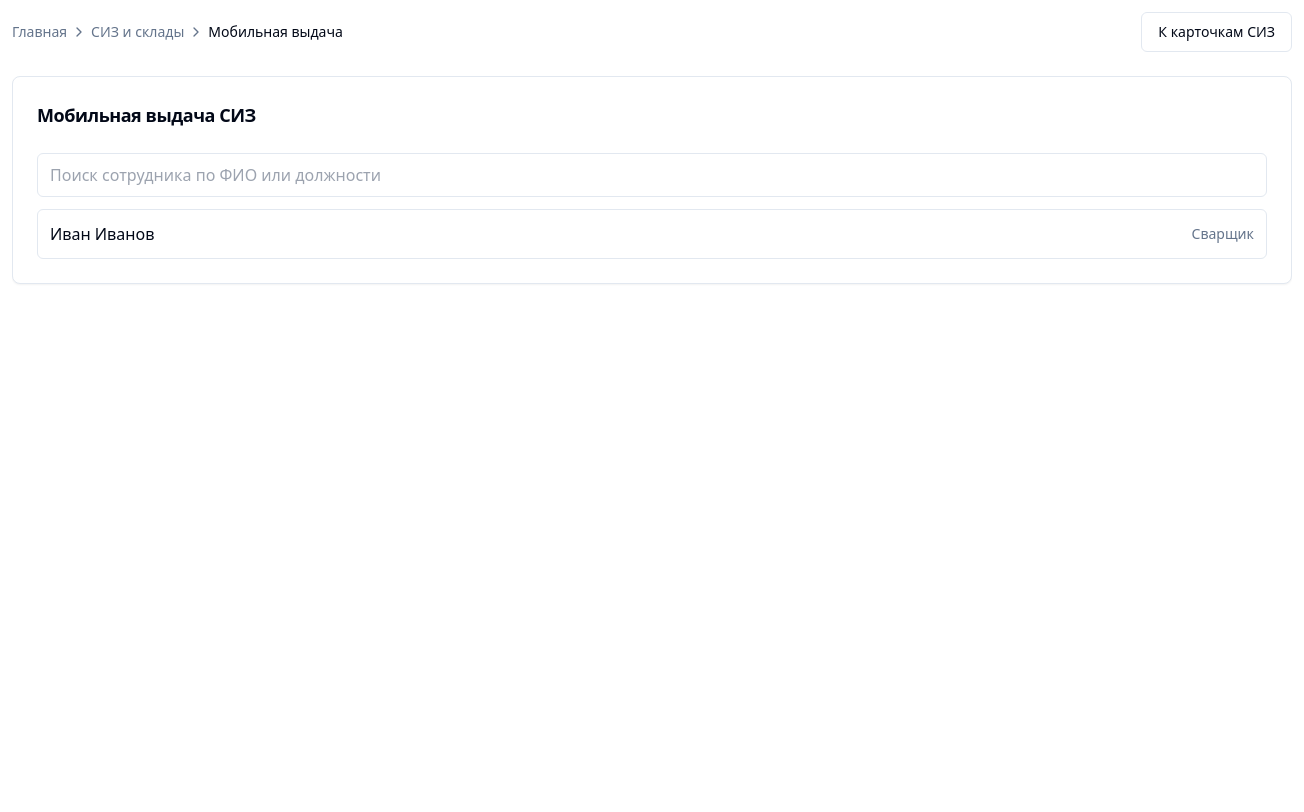
Test: MobileIssuePage — worker step › renders the page and lists only active workers, selecting one advances to items
Expected: the heading "Мобильная выдача СИЗ" is shown, [37,103,256,127]
Click the text "Иван Иванов".
click(102, 234)  # box [50,222,154,246]
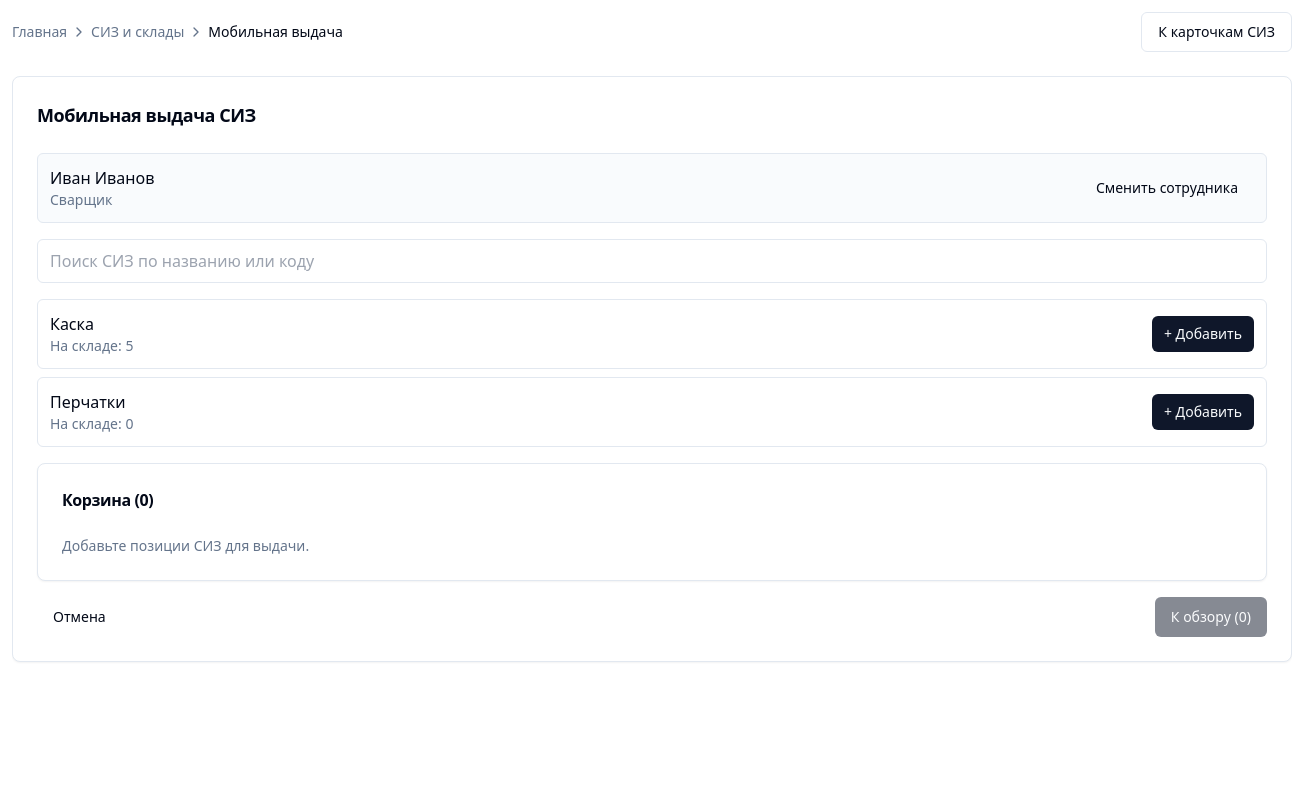
Result: the search field labelled "Поиск СИЗ" is shown at [37,239,1267,283]
